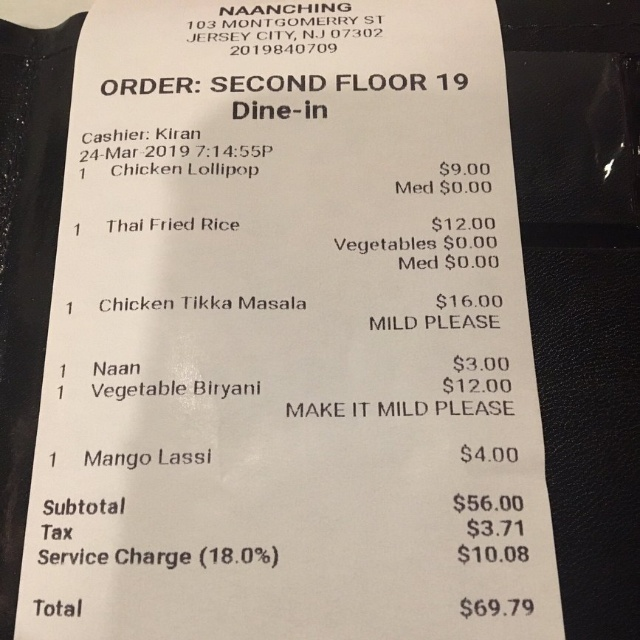invoice_table: (50, 162, 519, 466)
invoice_title: (186, 4, 384, 56)
invoice_total: (33, 598, 534, 619)
